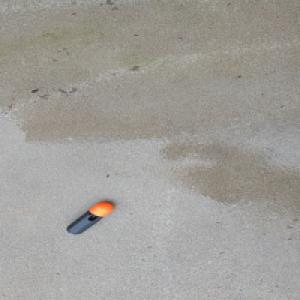PlasticPart: (66, 201, 115, 234)
